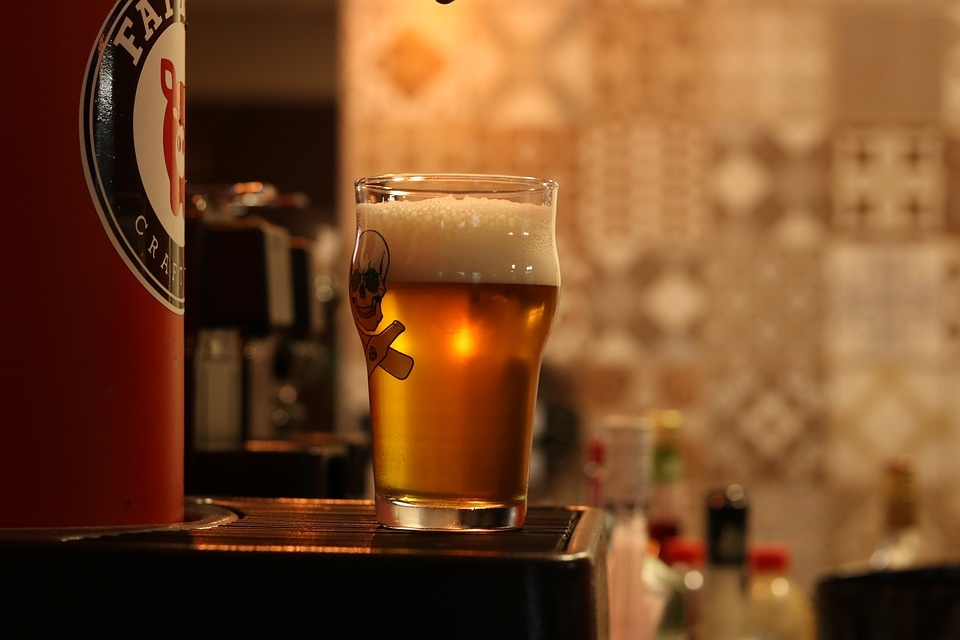glassBeer: (351, 177, 563, 530)
